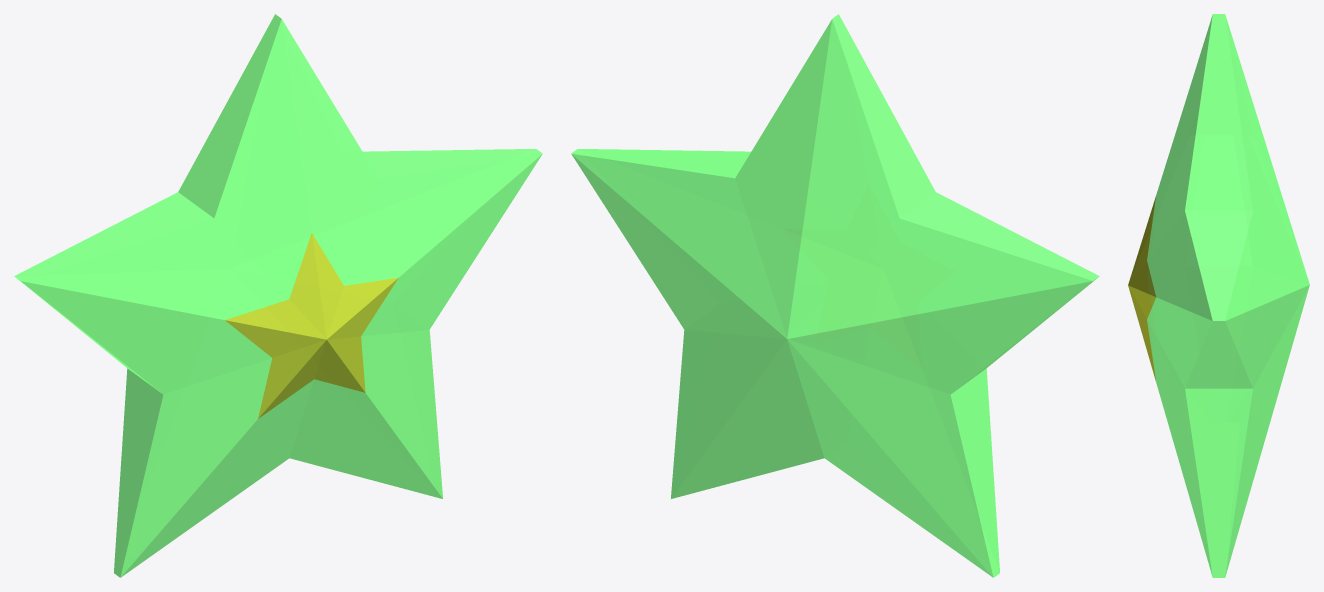
Rendered from star_lowpoly.fbx.
The picture shows the model from 3 angles, left to right: view 1: azimuth 30°, elevation 25°; view 2: azimuth 150°, elevation 25°; view 3: azimuth 270°, elevation 25°; orthographic projection. The views are drawn at different scales.
Parts seen in each view (by area): view 1: Star; view 2: Star; view 3: Star.
Boxes of the visible parts, bbox=[...] form: Star: bbox=[14, 14, 542, 577]; Star: bbox=[571, 14, 1099, 577]; Star: bbox=[1128, 14, 1309, 577].
Bounding box in the file's own units: 324 × 308 × 104.
